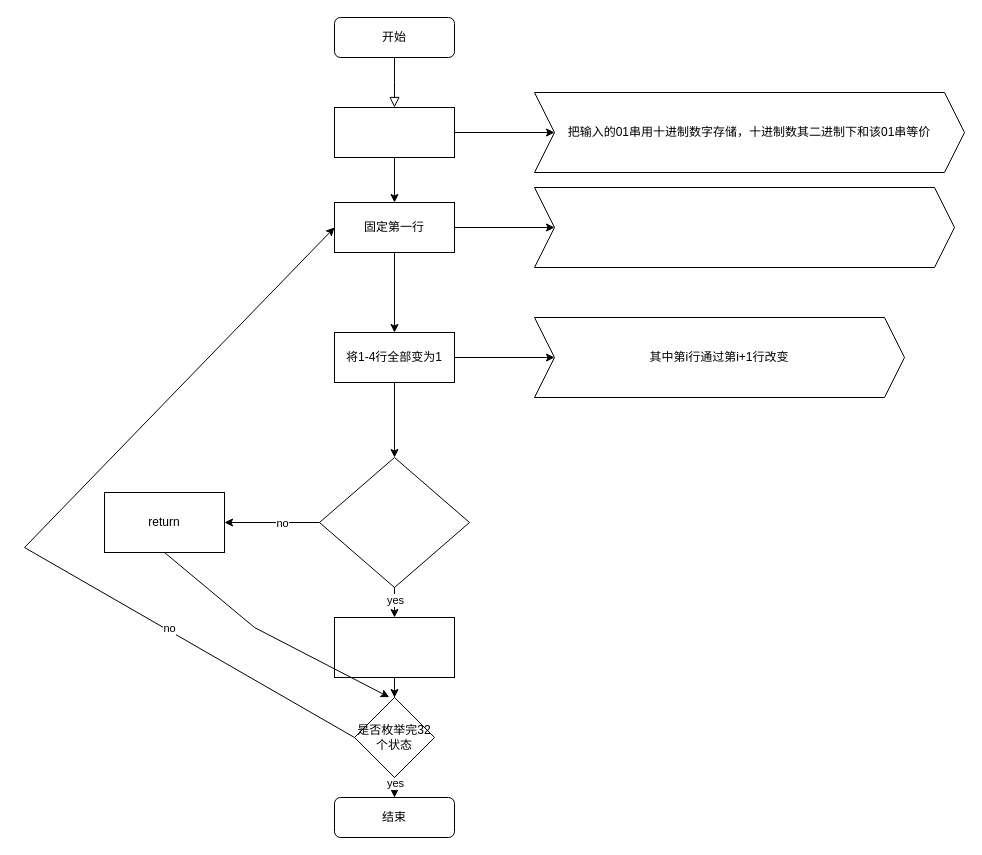
This 982x855 diagram has some shape labels left out. The shapes that lost their labels are listed below. From the top down, each one's centre as x and y in pixels, then its label:
the point at 394,132: 输入后处理
the point at 744,227: 枚举第一行的所有状态：0~31 共32种状态,这个状态称为p p的二进制10101 第i位为1表示第一行的第i位不用改变，否则需要改变
the point at 394,522: 第五行是否全为1？且k是否比ans小
the point at 394,647: 更新ans
